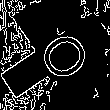O_SW: (22, 23, 88, 87)
